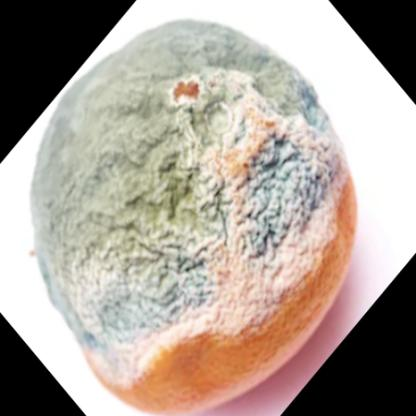rotten: (32, 18, 356, 416)
